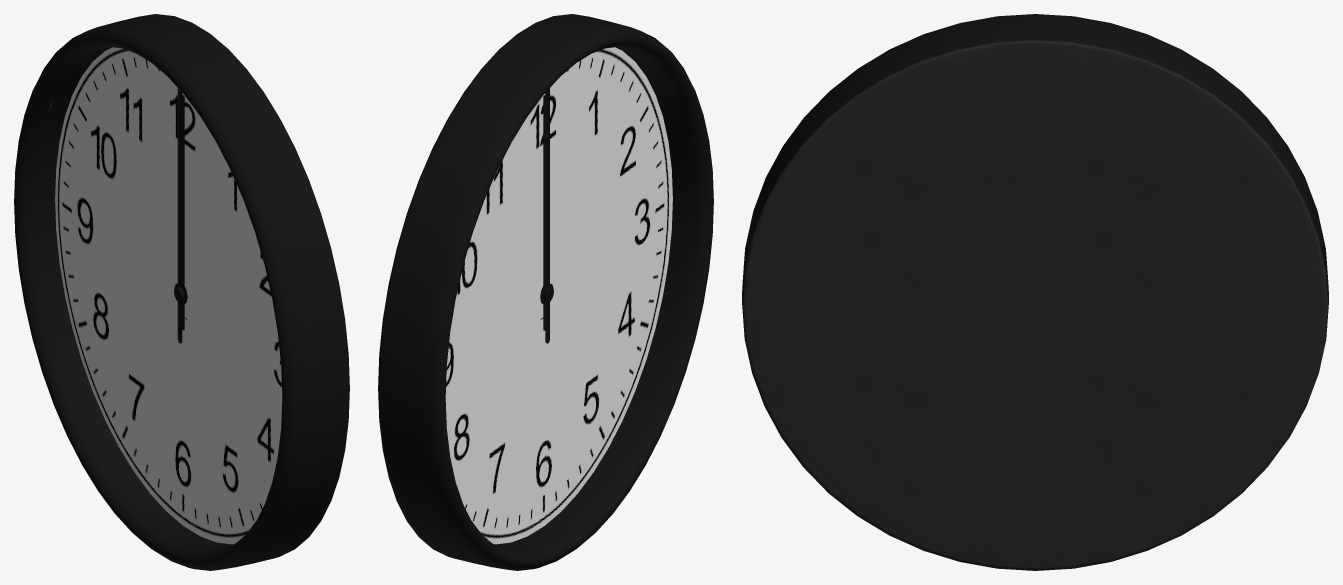
File: Clock.fbx
3 renders of one model, left to right at view 1: azimuth 30°, elevation 25°; view 2: azimuth 150°, elevation 25°; view 3: azimuth 270°, elevation 25°, orthographic. The views are drawn at different scales.
Visible parts, largest first — view 1: Circle.007, Circle.002, SecondArrow, MinuteArrow; view 2: Circle.007, Circle.002, SecondArrow, MinuteArrow; view 3: Circle.002.
Part boxes in pixels (left/top/right/bottom): Circle.007: left=55, top=47, right=282, bottom=544; Circle.002: left=14, top=14, right=349, bottom=570; SecondArrow: left=174, top=88, right=185, bottom=343; MinuteArrow: left=182, top=95, right=187, bottom=330; Circle.007: left=445, top=47, right=672, bottom=544; Circle.002: left=378, top=14, right=713, bottom=570; SecondArrow: left=542, top=88, right=553, bottom=343; MinuteArrow: left=540, top=95, right=545, bottom=330; Circle.002: left=742, top=14, right=1328, bottom=570.
Size of the model in its own units: 4.18 by 32.44 by 32.44.
Materials: 1 (1 with a texture image).
